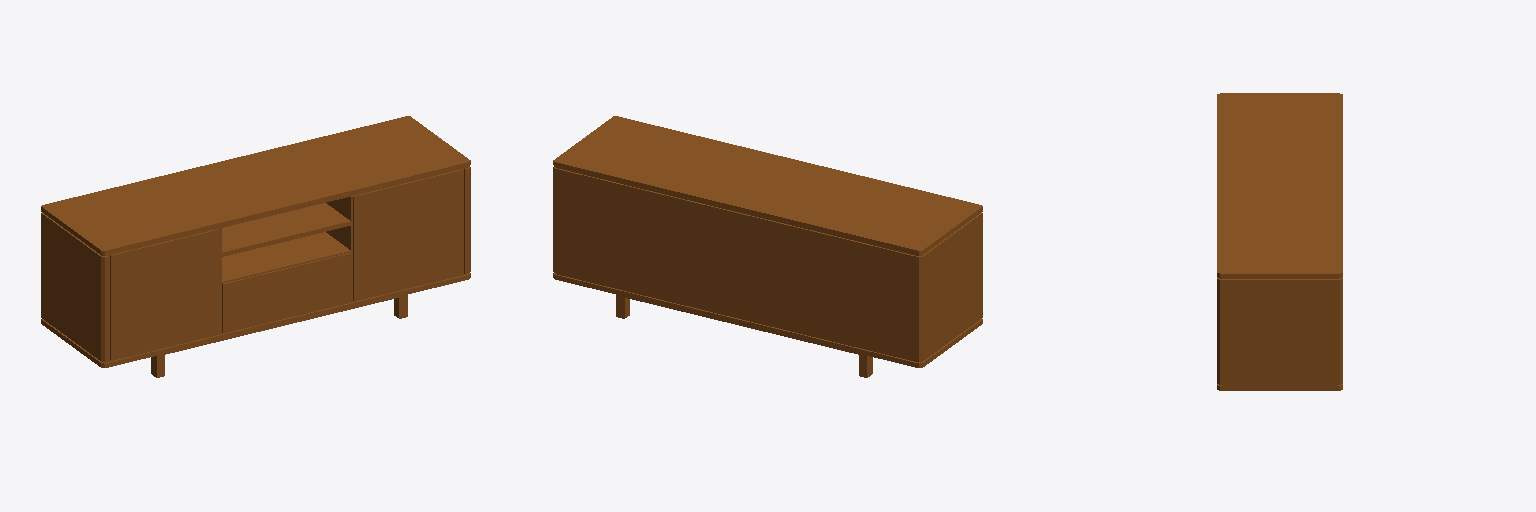
The model's file is Cabinet.obj.
3 renders of one model, left to right at view 1: azimuth 30°, elevation 25°; view 2: azimuth 150°, elevation 25°; view 3: azimuth 270°, elevation 25°, orthographic.
Parts seen in each view (by area): view 1: Plane; view 2: Plane; view 3: Plane.
Boxes of the visible parts, box(x1,y1,x2,y2) form: Plane: box(41, 116, 470, 377); Plane: box(553, 116, 982, 377); Plane: box(1217, 93, 1342, 390).
Size of the model in its own units: 160 by 60 by 47.